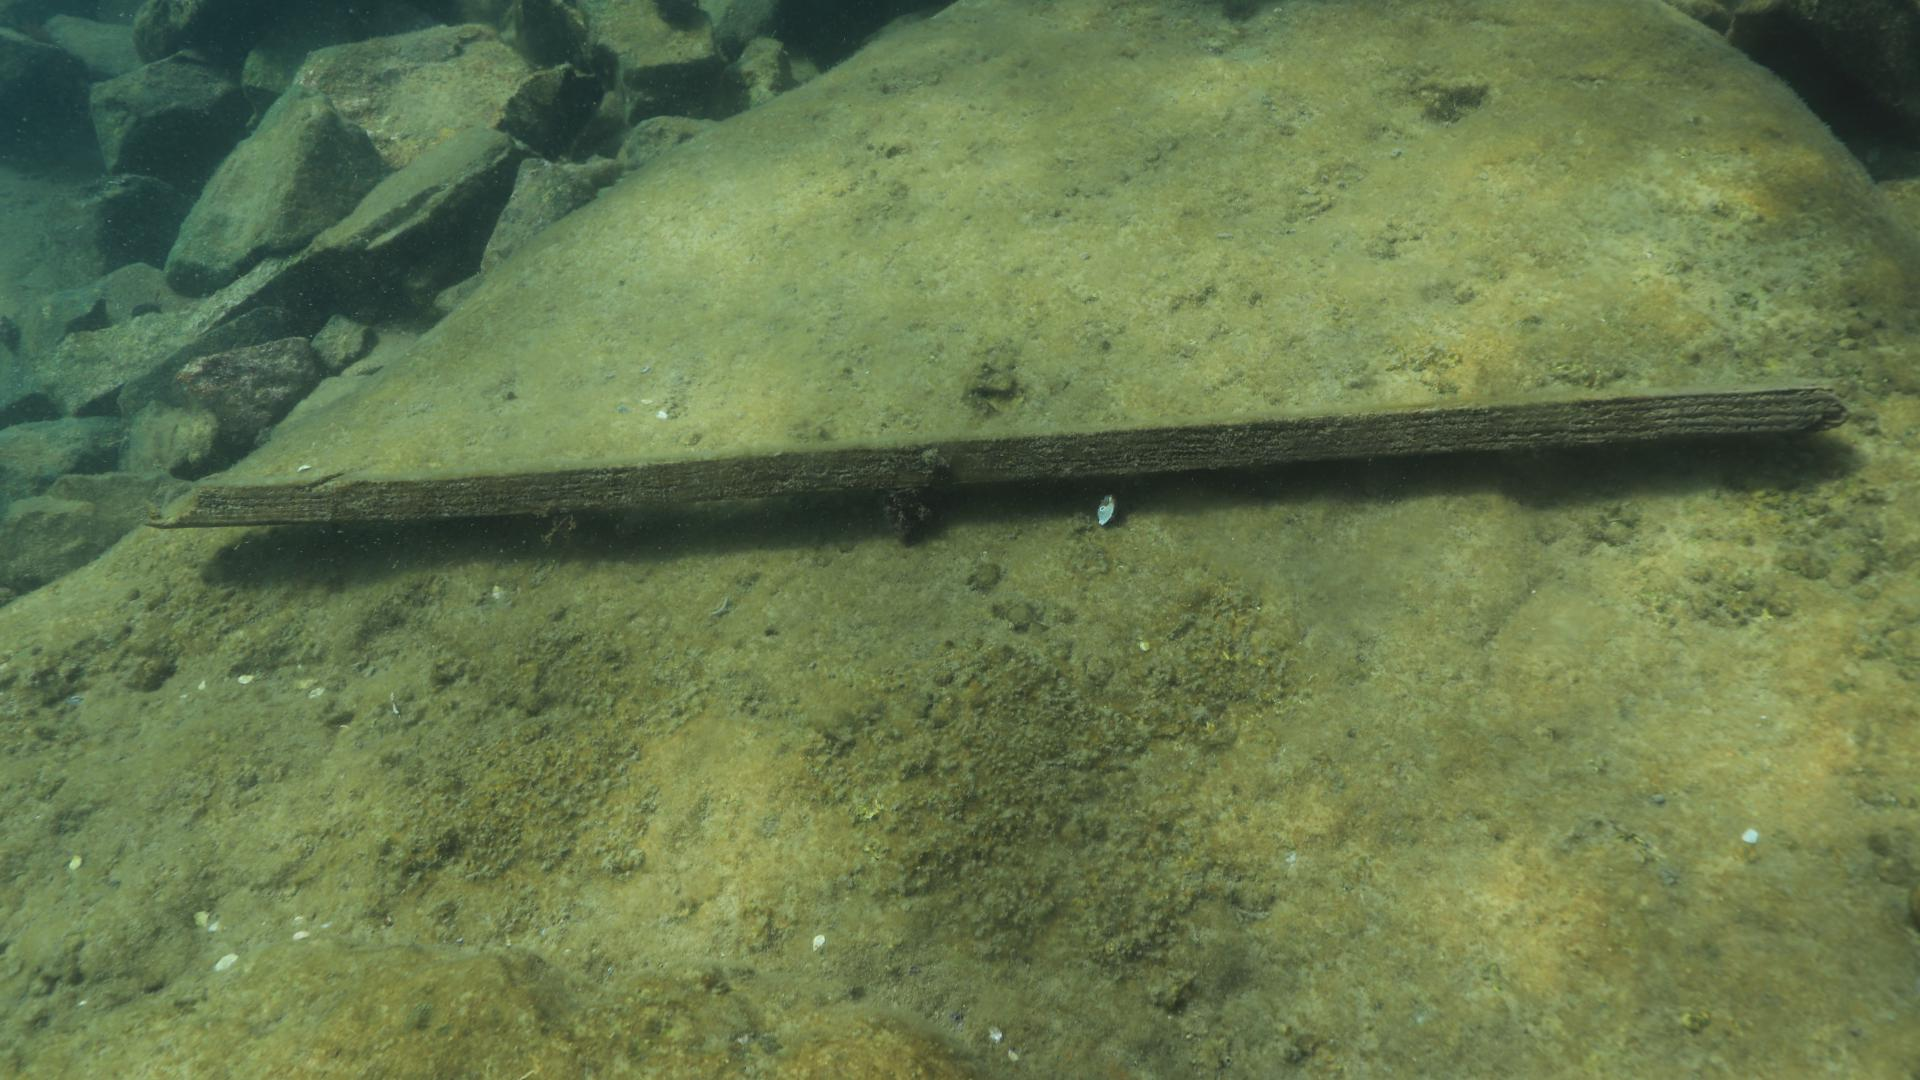wood: (142, 382, 1850, 527)
